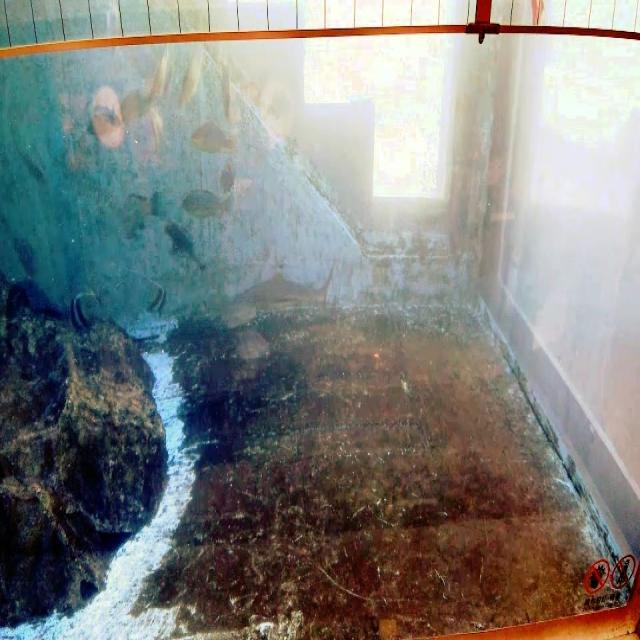angelfish: (63, 280, 103, 344), (128, 268, 170, 325)
gold snapper: (184, 112, 241, 172), (174, 179, 237, 225)
shark: (218, 253, 342, 336)
